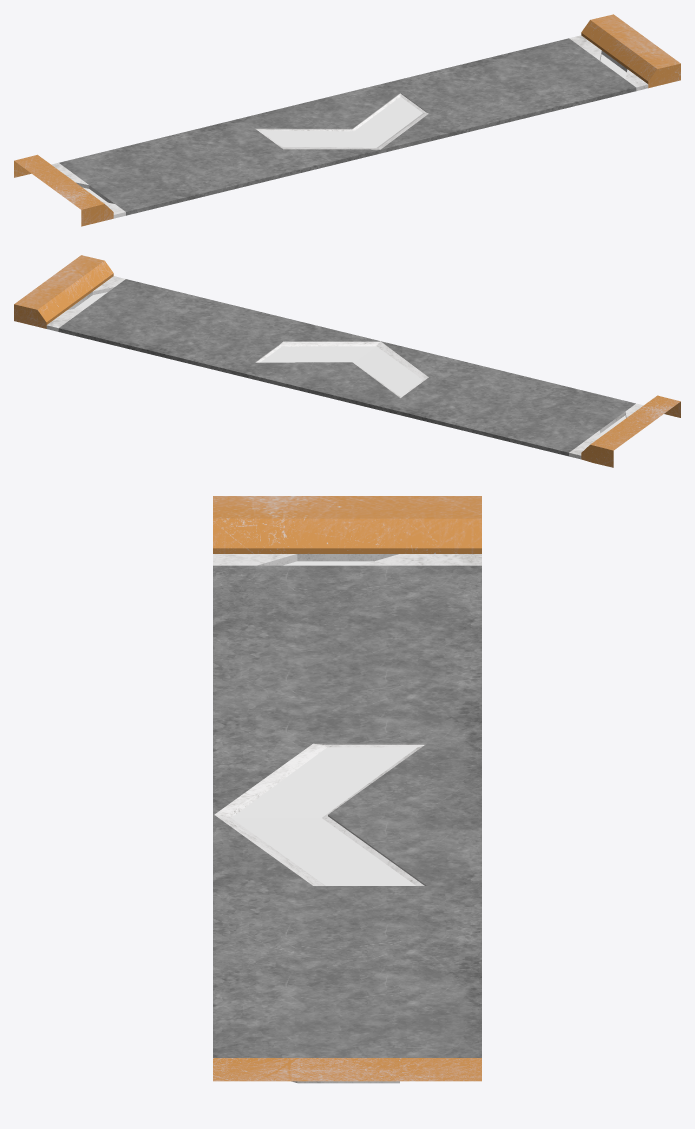
The model's file is SMOD_FrameRoad_C 1.fbx.
3 views of the same model, one above another, from view 1: azimuth 30°, elevation 25°; view 2: azimuth 150°, elevation 25°; view 3: azimuth 270°, elevation 25° (orthographic). The views are drawn at different scales.
Parts seen in each view (by area): view 1: SMOD_FrameRoad_C; view 2: SMOD_FrameRoad_C; view 3: SMOD_FrameRoad_C.
Boxes of the visible parts, x1,y1,x2,y2 form: SMOD_FrameRoad_C: [14, 14, 680, 226]; SMOD_FrameRoad_C: [14, 255, 680, 467]; SMOD_FrameRoad_C: [213, 496, 481, 1083].
Bounding box in the file's own units: 5148 × 144 × 1000.
